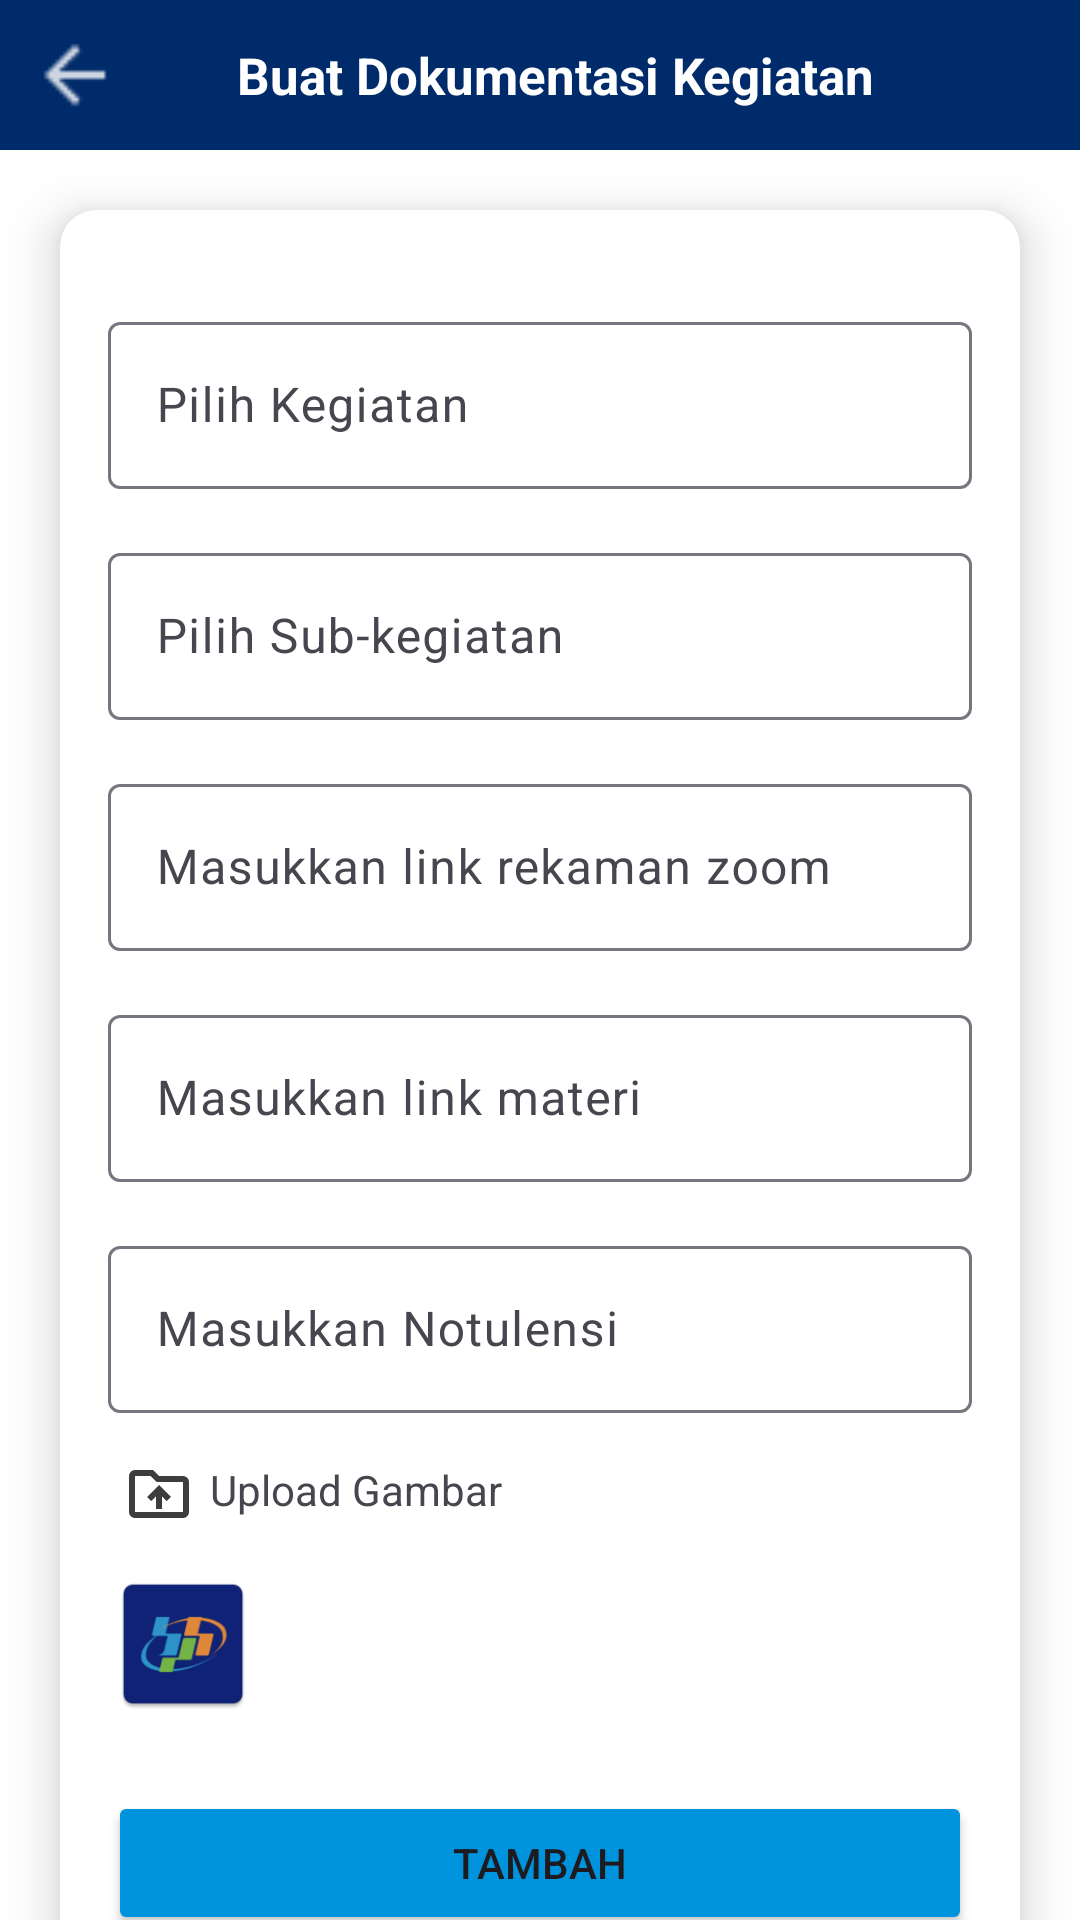

Point at icon controls on the screen. Image size 1080×1920, points as (x=x, y=y).
back: (x=75, y=75)
